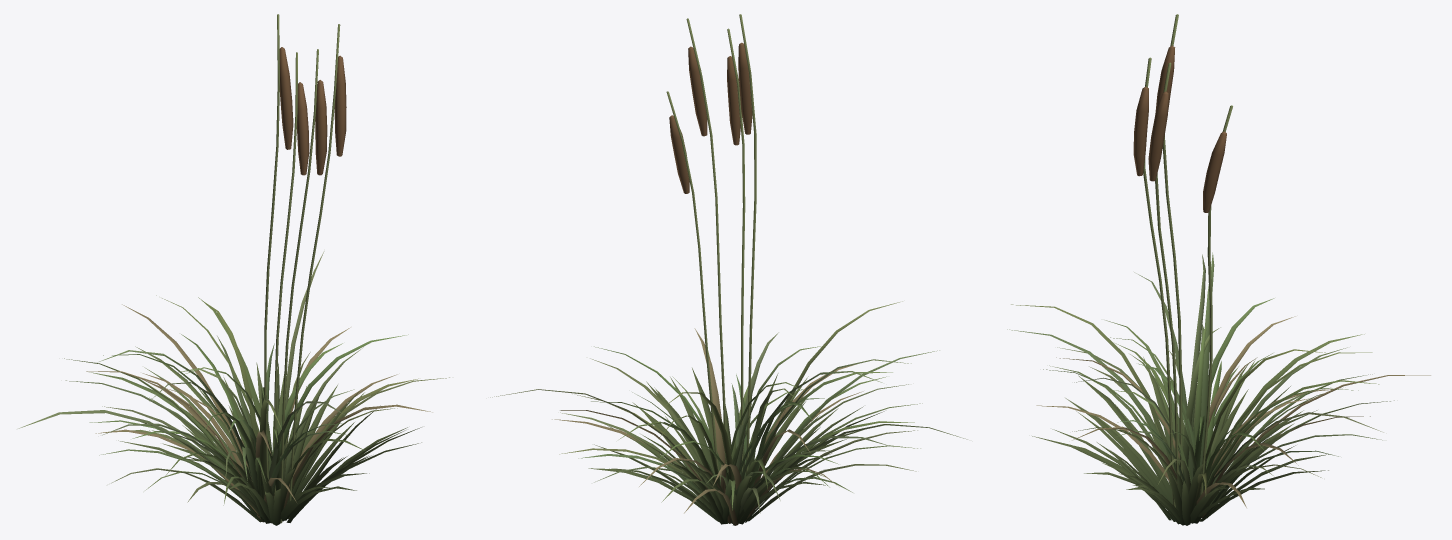
The model's file is eco_reed_riverside_LOD0.glb.
3 views of the same model, side by side, from view 1: azimuth 30°, elevation 25°; view 2: azimuth 150°, elevation 25°; view 3: azimuth 270°, elevation 25° (orthographic).
Visible parts, largest first — view 1: eco_reed_riverside_LOD0; view 2: eco_reed_riverside_LOD0; view 3: eco_reed_riverside_LOD0.
Boxes of the visible parts, x1=… form: eco_reed_riverside_LOD0: x1=18, y1=14, x2=449, y2=525; eco_reed_riverside_LOD0: x1=490, y1=14, x2=967, y2=525; eco_reed_riverside_LOD0: x1=1007, y1=14, x2=1430, y2=525.
Bounding box in the file's own units: 1.32 × 1.53 × 1.19.
